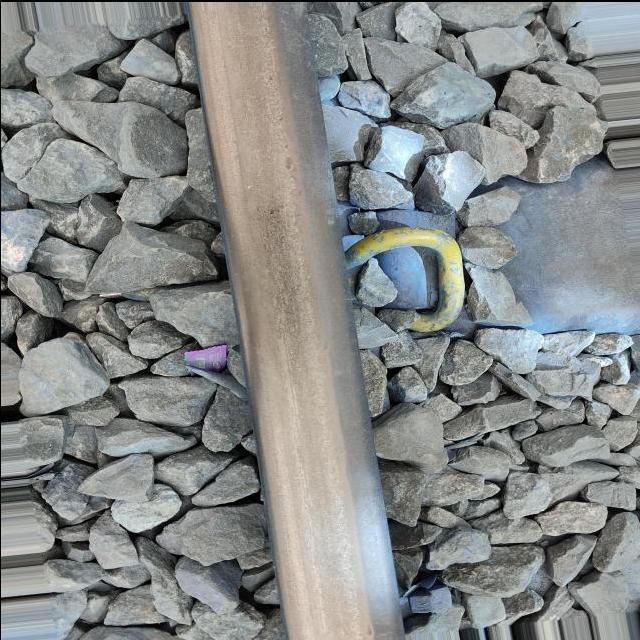squats_high: (265, 201, 289, 214), (282, 153, 294, 169)
